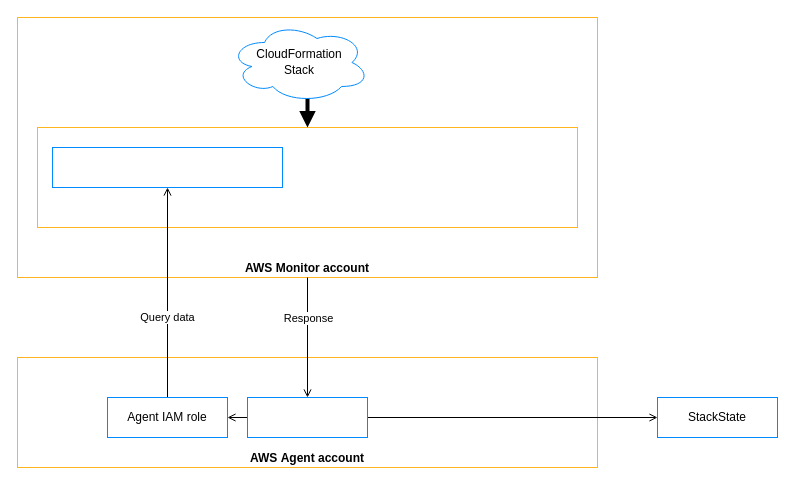
Image size: 795x485. Some labels were removed from this diagram. Here are the shapes that lost their labels. From the top down, the box of each, then its label:
(52, 146, 282, 188): IAM role: StackStateAwsIntegrationRole
(36, 126, 578, 228): AWS resources
(246, 396, 368, 438): StackState Agent V2
